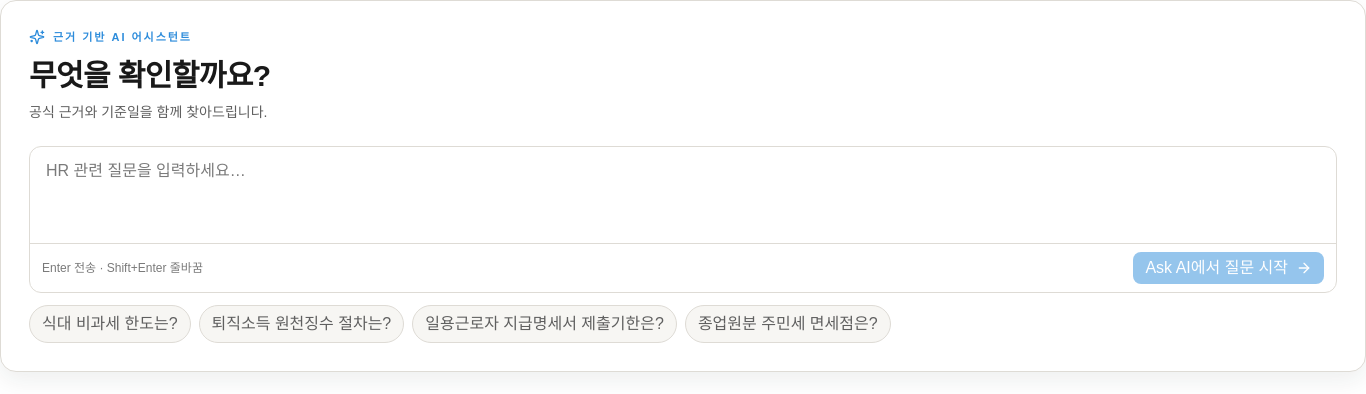
Test: DashboardAskLauncher › fills a suggestion without navigating
Click the button "식대 비과세 한도는?" at (110, 324), box [29,304,191,342]
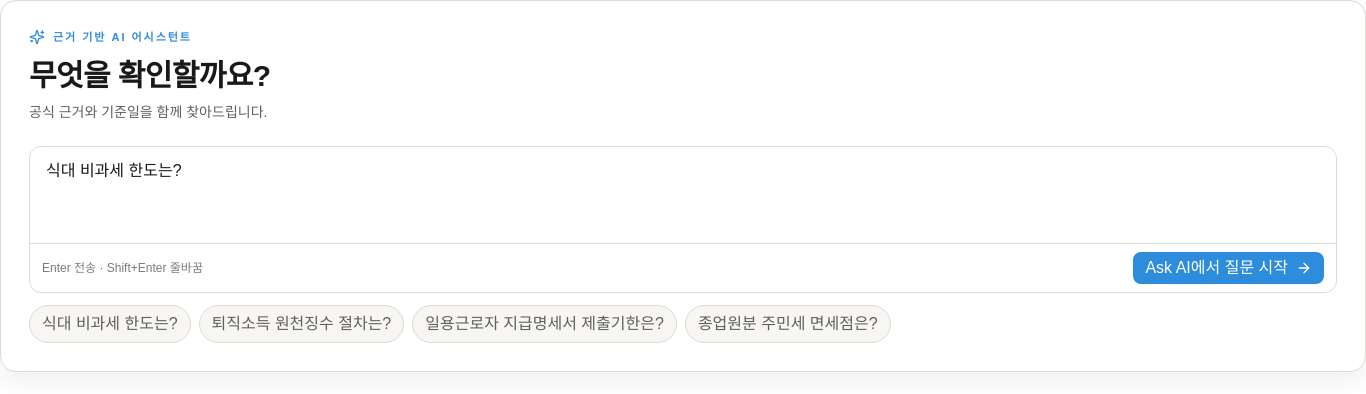
Check: the text box holds "식대 비과세 한도는?", box [30,146,1336,242]
